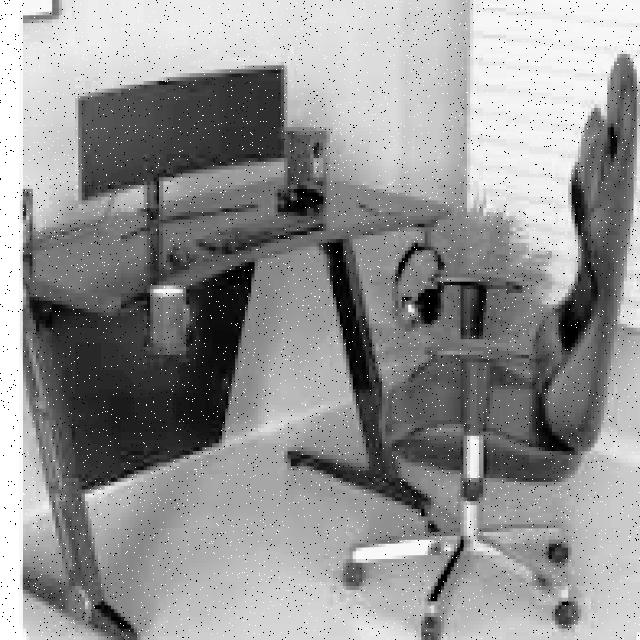book: (287, 50, 640, 640)
table: (23, 169, 454, 640)
